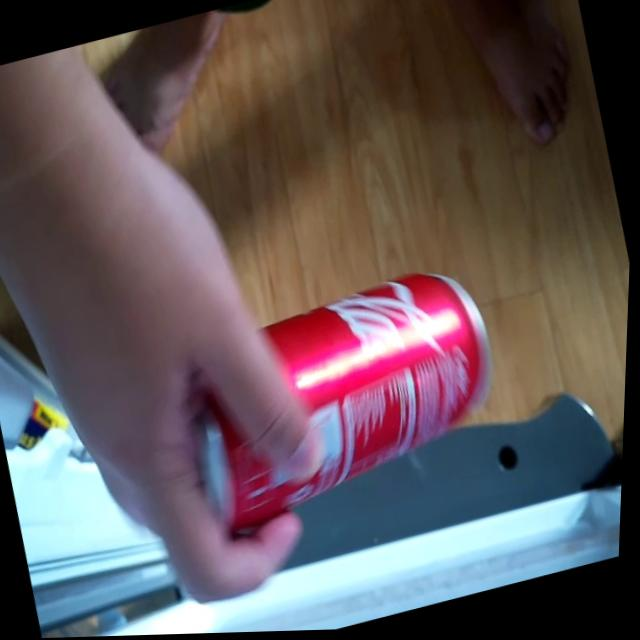coke: (160, 256, 522, 554)
